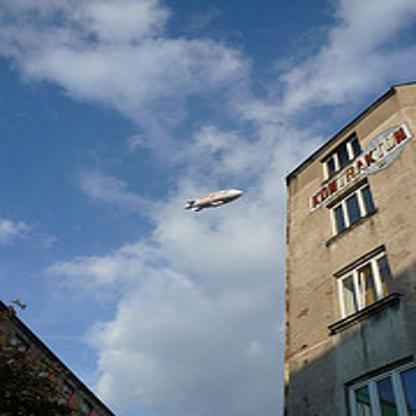Airship: (183, 177, 246, 222)
